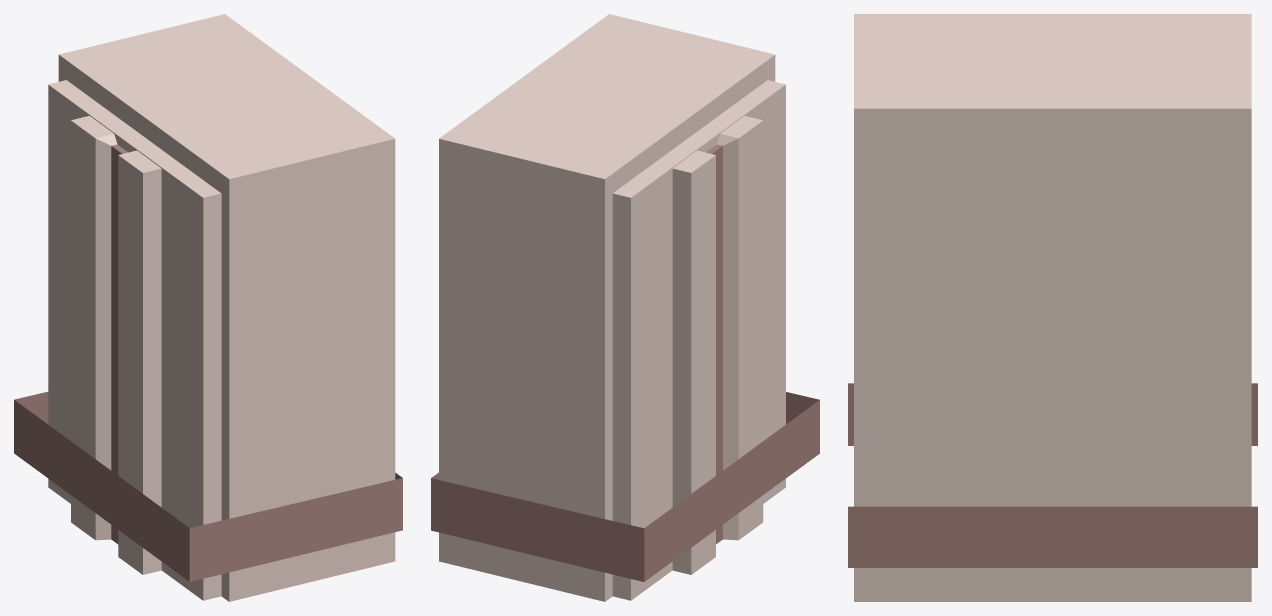
File: Edificio006.FBX
3 renders of one model, left to right at view 1: azimuth 30°, elevation 25°; view 2: azimuth 150°, elevation 25°; view 3: azimuth 270°, elevation 25°, orthographic. The views are drawn at different scales.
Parts seen in each view (by area): view 1: Edificio006; view 2: Edificio006; view 3: Edificio006.
Part boxes in pixels (box(x1,y1,x2,y2)): Edificio006: box(14, 14, 402, 601); Edificio006: box(431, 14, 819, 601); Edificio006: box(848, 14, 1257, 601).
Bounding box in the file's own units: 640 × 1212 × 913.
